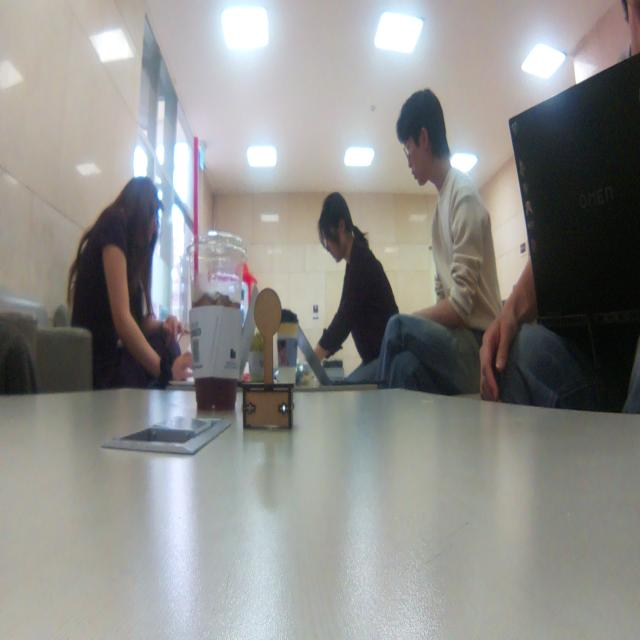target: (243, 287, 294, 430)
